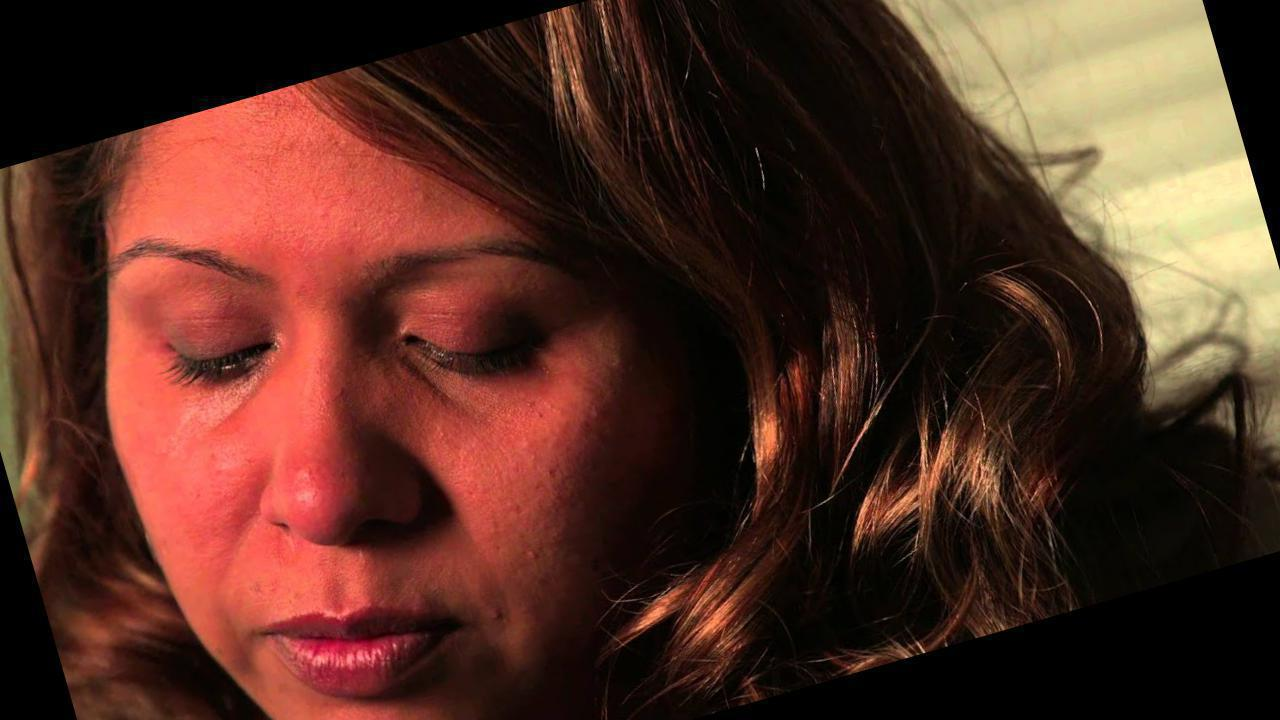Drunk: (122, 132, 628, 709)
